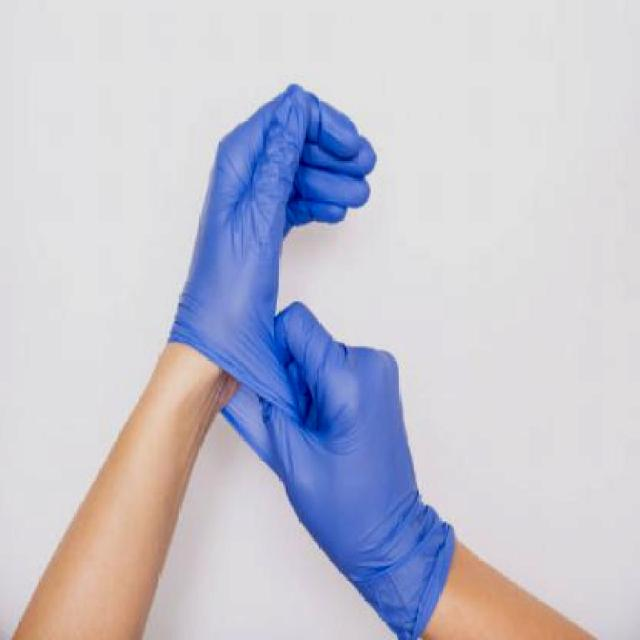glove: (141, 86, 385, 380), (270, 296, 456, 639)
